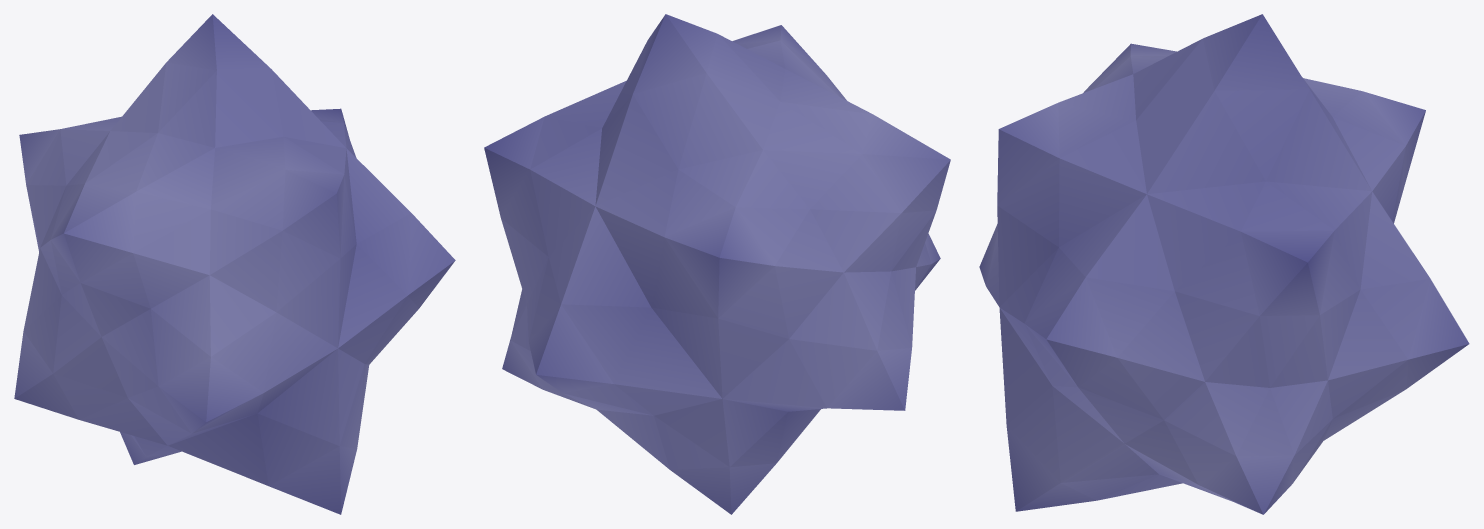
Rendered from StarPiece.glb.
The picture shows the model from 3 angles, left to right: view 1: azimuth 30°, elevation 25°; view 2: azimuth 150°, elevation 25°; view 3: azimuth 270°, elevation 25°; orthographic projection. The views are drawn at different scales.
Visible parts, largest first — view 1: m0; view 2: m0; view 3: m0.
Boxes of the visible parts, box(x1,y1,x2,y2) form: m0: box(14, 14, 455, 514); m0: box(484, 14, 950, 514); m0: box(979, 14, 1469, 514).
Bounding box in the file's own units: 0.7053 × 0.822 × 0.7268.
